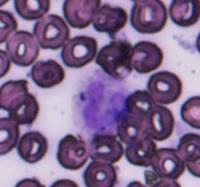N: (72, 69, 130, 135)
